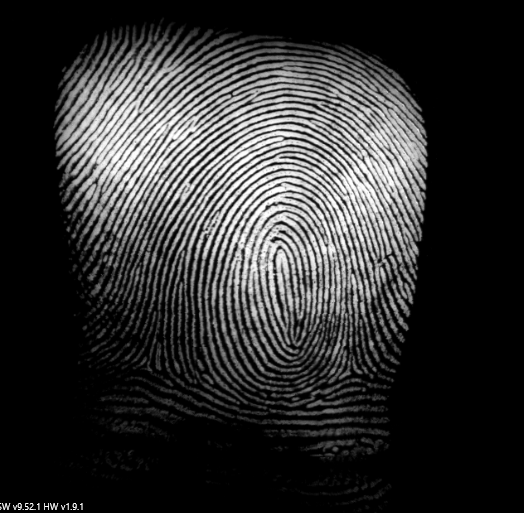deltas: (121, 332, 178, 385), (328, 336, 378, 393)
nucleo: (248, 235, 313, 309)
